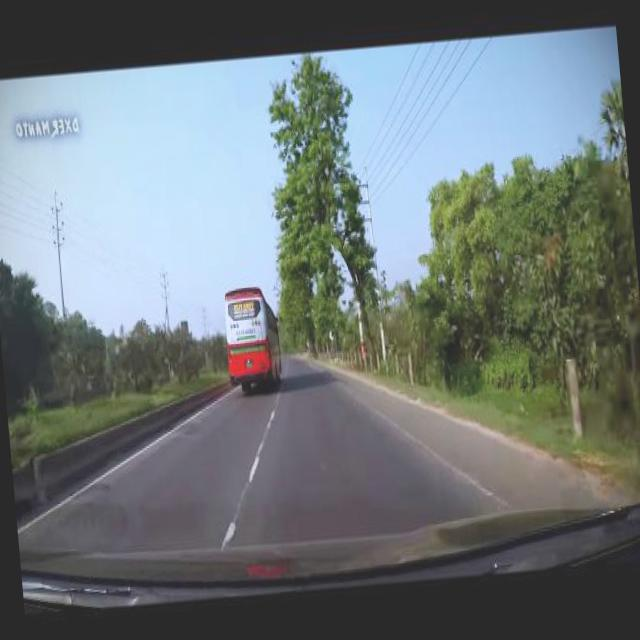bus: (222, 283, 286, 390)
